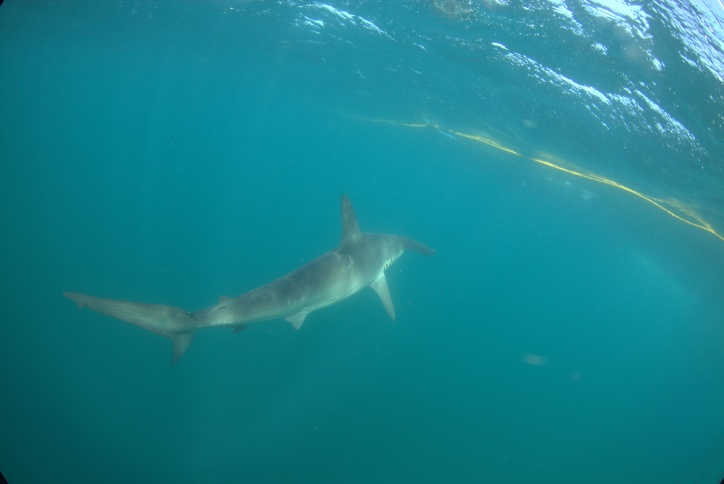Hammer: (58, 186, 451, 394)
